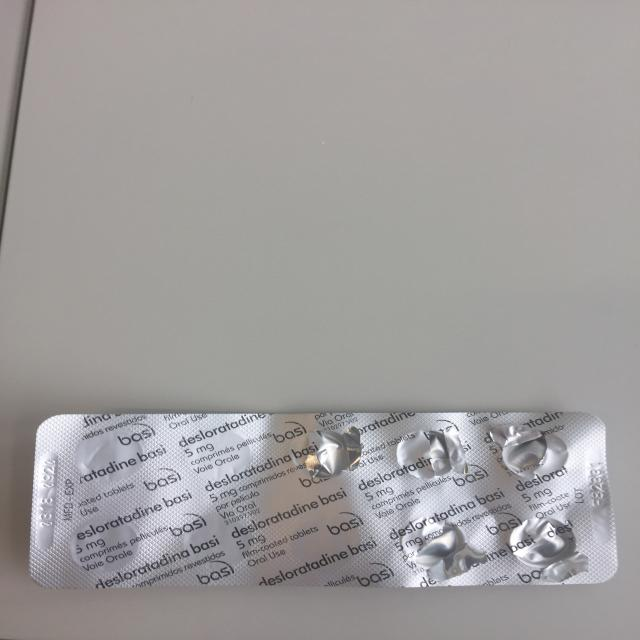Empty: (393, 516, 481, 577), (505, 516, 589, 578), (386, 425, 471, 481), (282, 427, 366, 482), (495, 423, 570, 482)
Pill: (286, 512, 365, 574), (65, 516, 146, 574), (175, 428, 255, 486), (180, 513, 258, 572), (68, 430, 150, 486)
